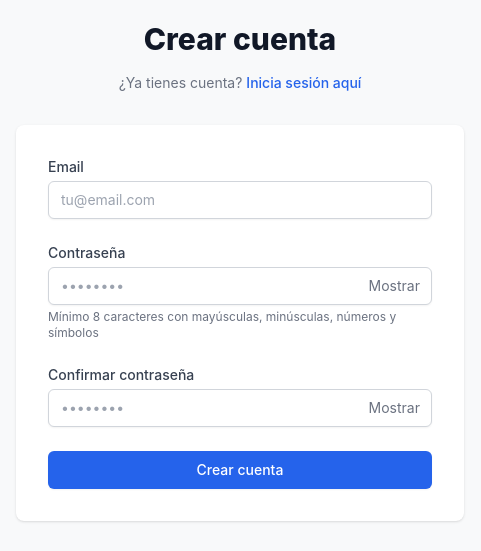
Test case: RegisterPage › handles registration errors
The image size is (481, 551).
Type "existing@example.com" into the field labelled "Email" at x=240, y=200, box [48,181,432,219]
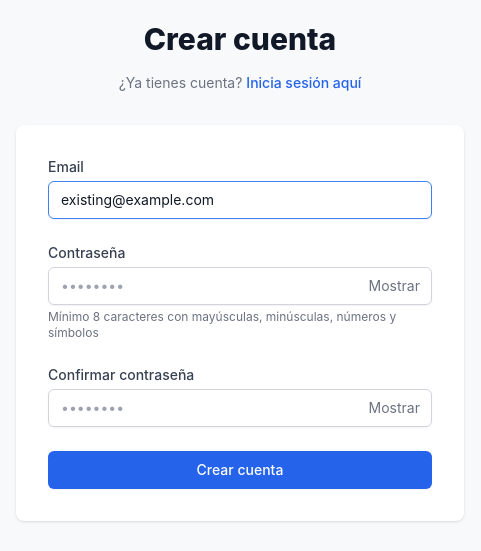
Type "ValidPass123!" into the password field labelled "Contraseña" at x=240, y=286, box [48,267,432,305]
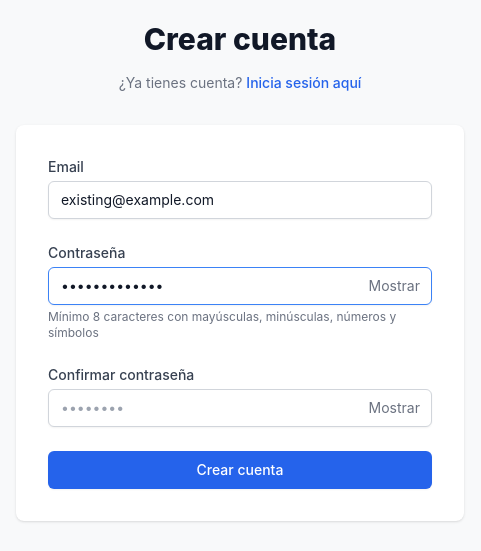
Type "ValidPass123!" into the password field labelled "Confirmar contraseña" at x=240, y=408, box [48,389,432,427]
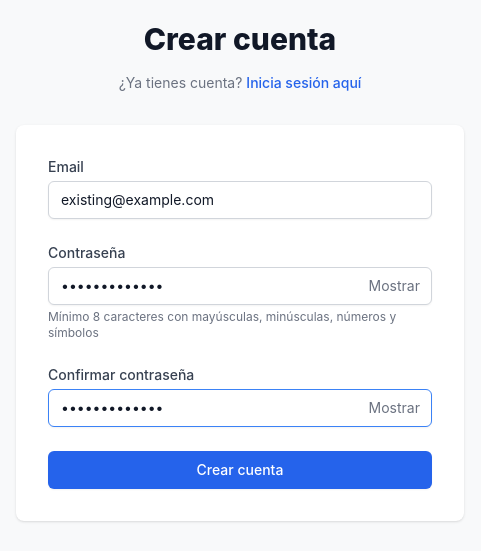
Click the button "Crear cuenta" at x=240, y=470, box [48,451,432,489]
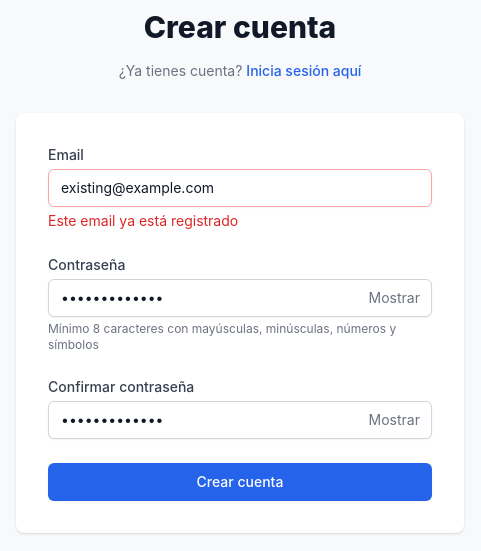
Now the text "Este email ya está registrado" is shown, box [48,212,238,229]
